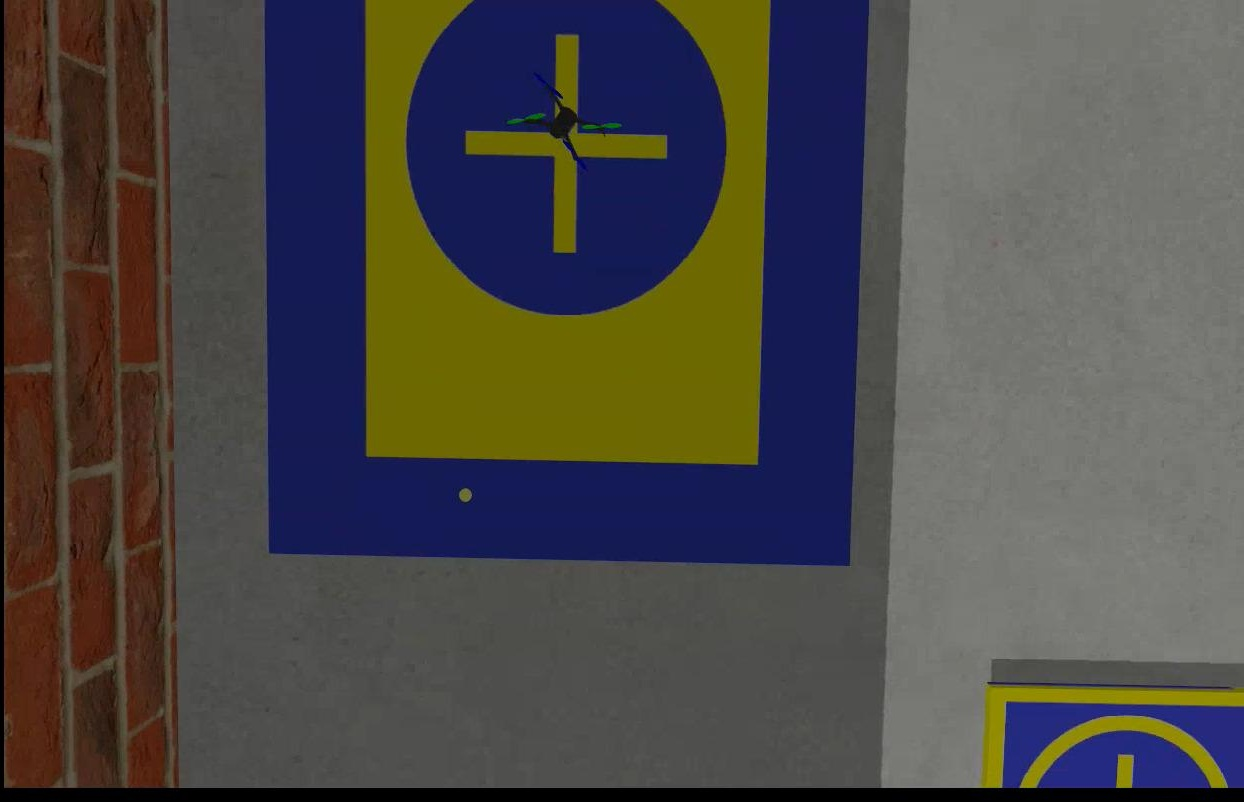large_base: (265, 1, 869, 567)
small_base: (983, 681, 1242, 791)
